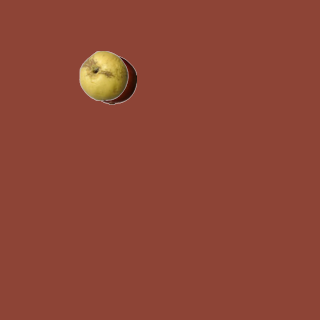Apple Braeburn: (86, 54, 136, 104)
Apple Golden 1: (78, 50, 128, 100)
